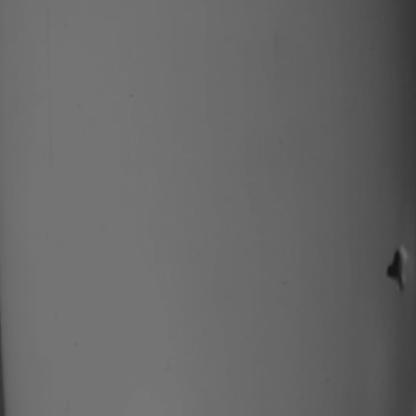kongdong: (372, 242, 412, 296)
